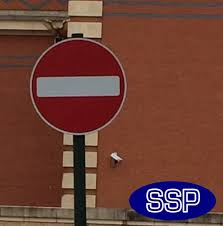No_entry: (29, 37, 127, 135)
